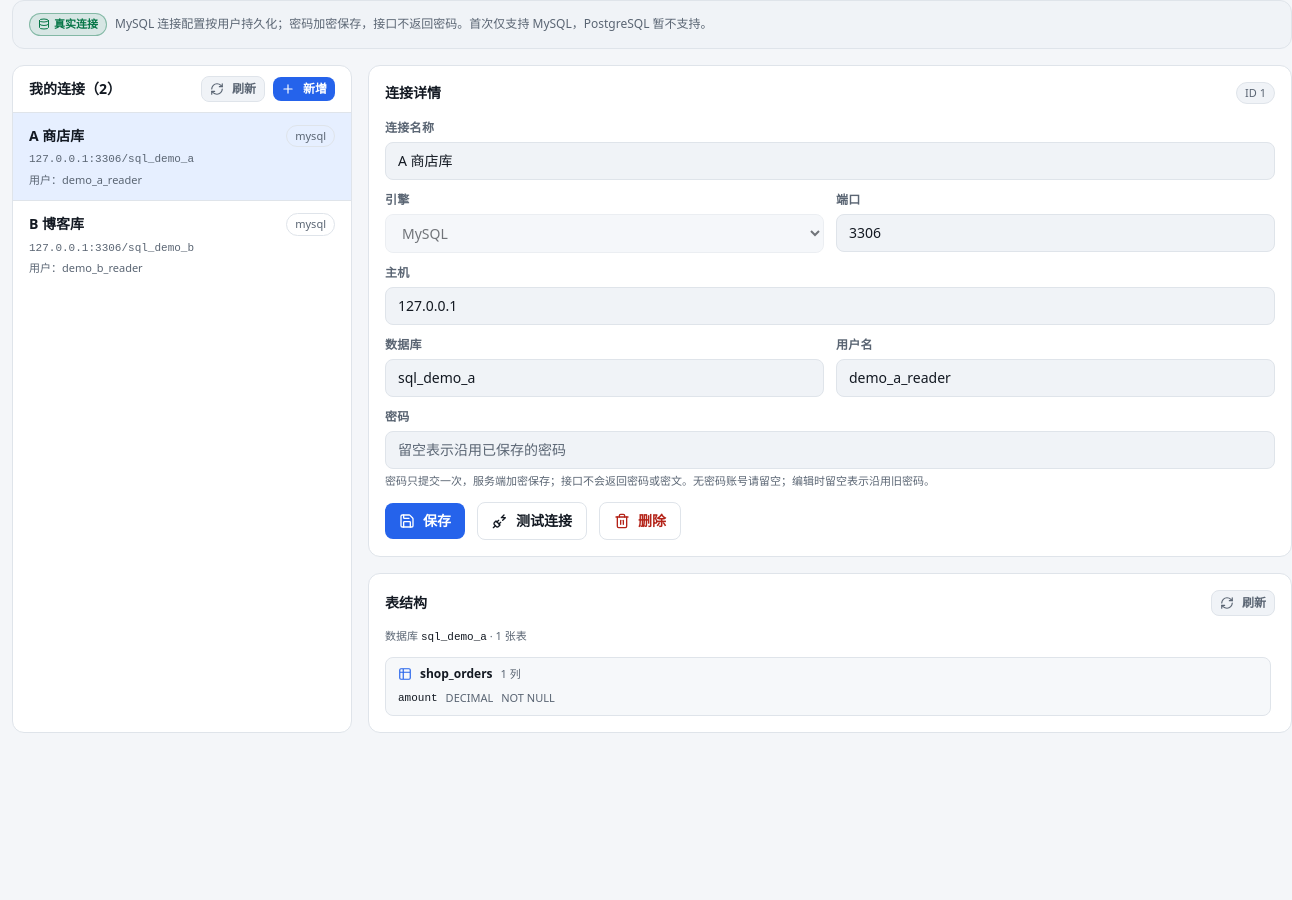
it: DatabasePage 真实连接管理 › 测试失败如实展示，不伪装成功
expect the button "A 商店库 mysql 127.0.0.1:3306/sql_demo_a 用户：demo_a_reader" is shown: met, box [13,112,351,200]
expect the field labelled "连接名称" is shown: met, box [385,142,1275,180]
Click the button "测试连接". click: (532, 520)
box: [477,502,587,540]
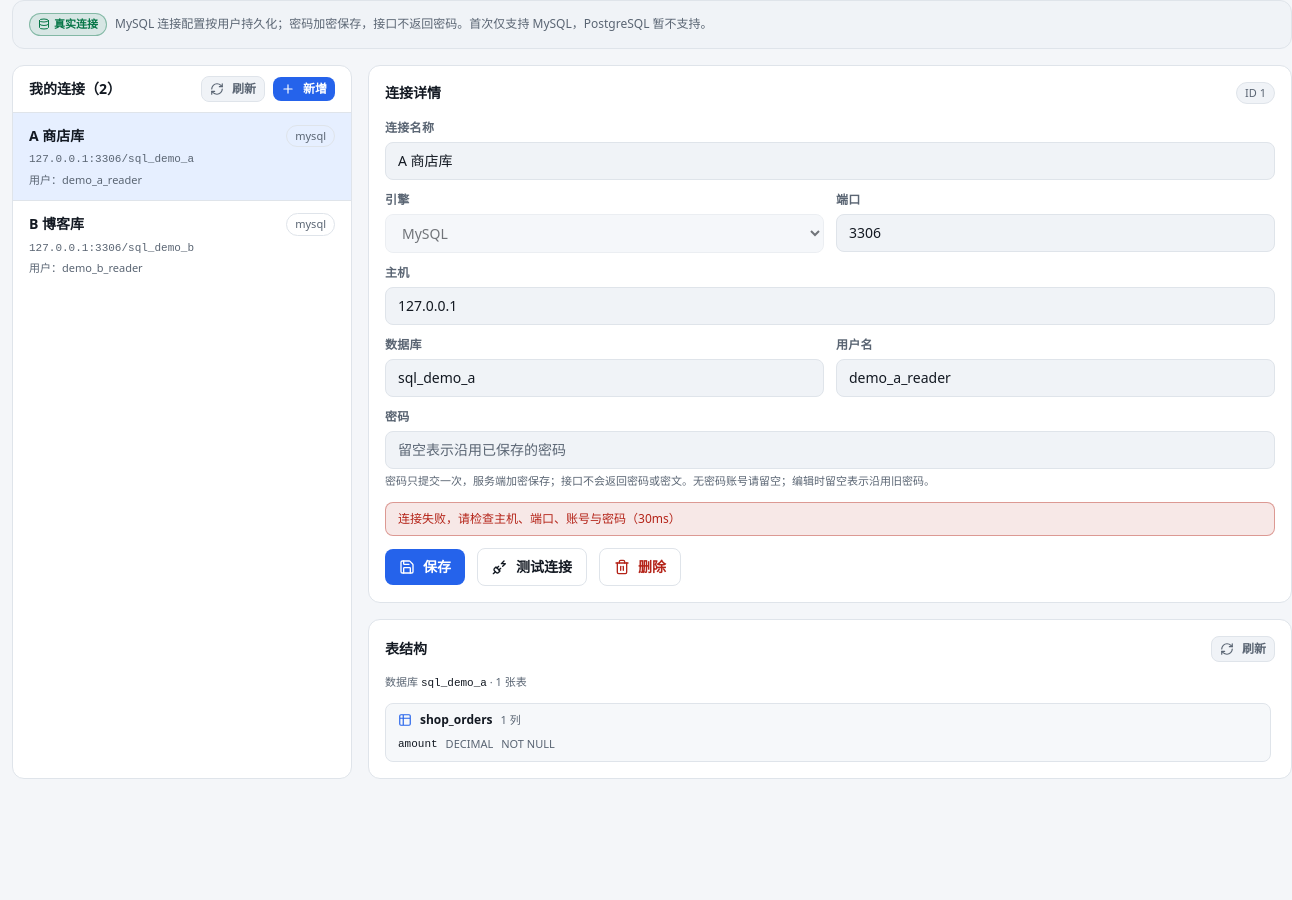
expect the text "连接失败，请检查主机、端口、账号与密码（30ms）" is shown: met, box [385,502,1275,536]
